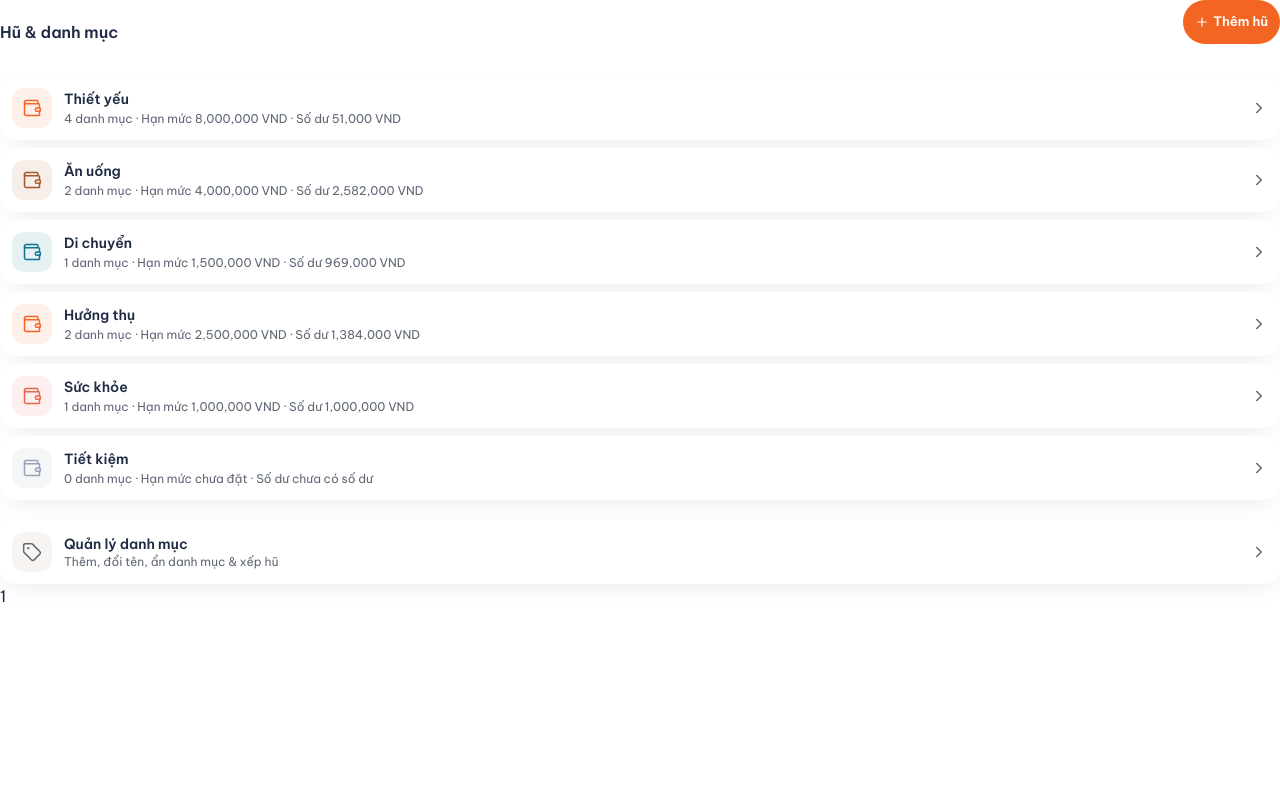
it: HuEditorSheet — delete with rebalance legs (U8) › warns about the jar's 'điều chỉnh hũ' movements and drops them after delete
Click the text "Hưởng thụ".
click(100, 315)  # box x1=64 y1=305 x2=135 y2=325
(page scrolled)
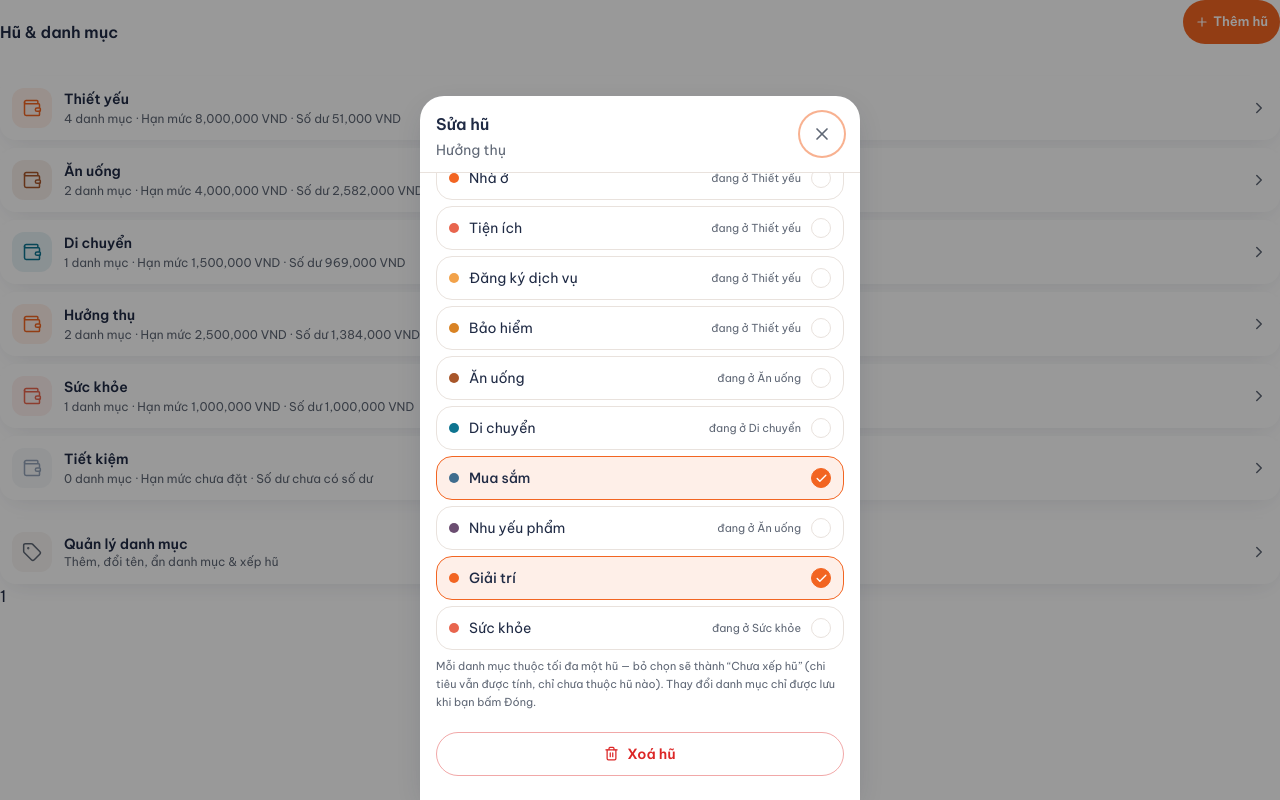
Expected: the text with test id "legs" reads "1", x1=0 y1=586 x2=6 y2=606
Click the button "Xoá hũ".
click(640, 754)  # box x1=436 y1=732 x2=844 y2=776
(page scrolled)
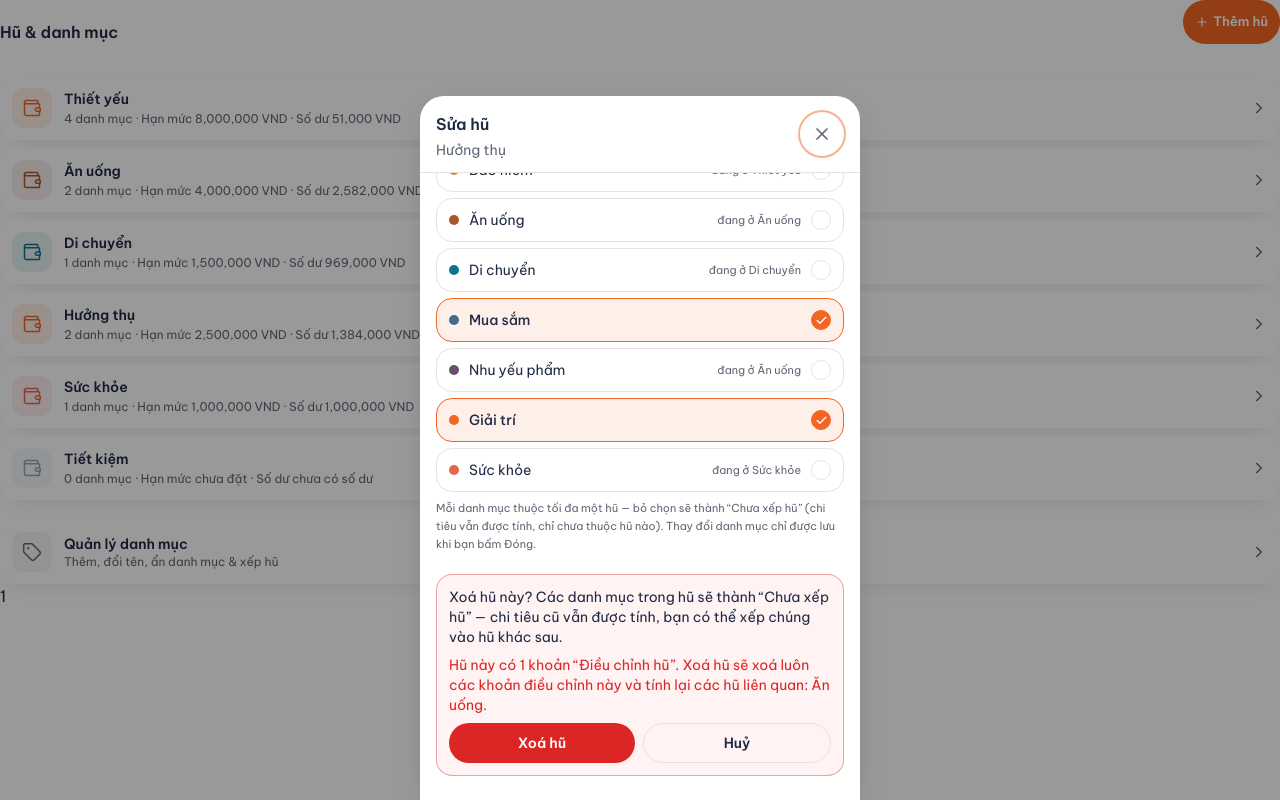
Click the button "Xoá hũ".
click(542, 743)  # box x1=449 y1=723 x2=635 y2=763
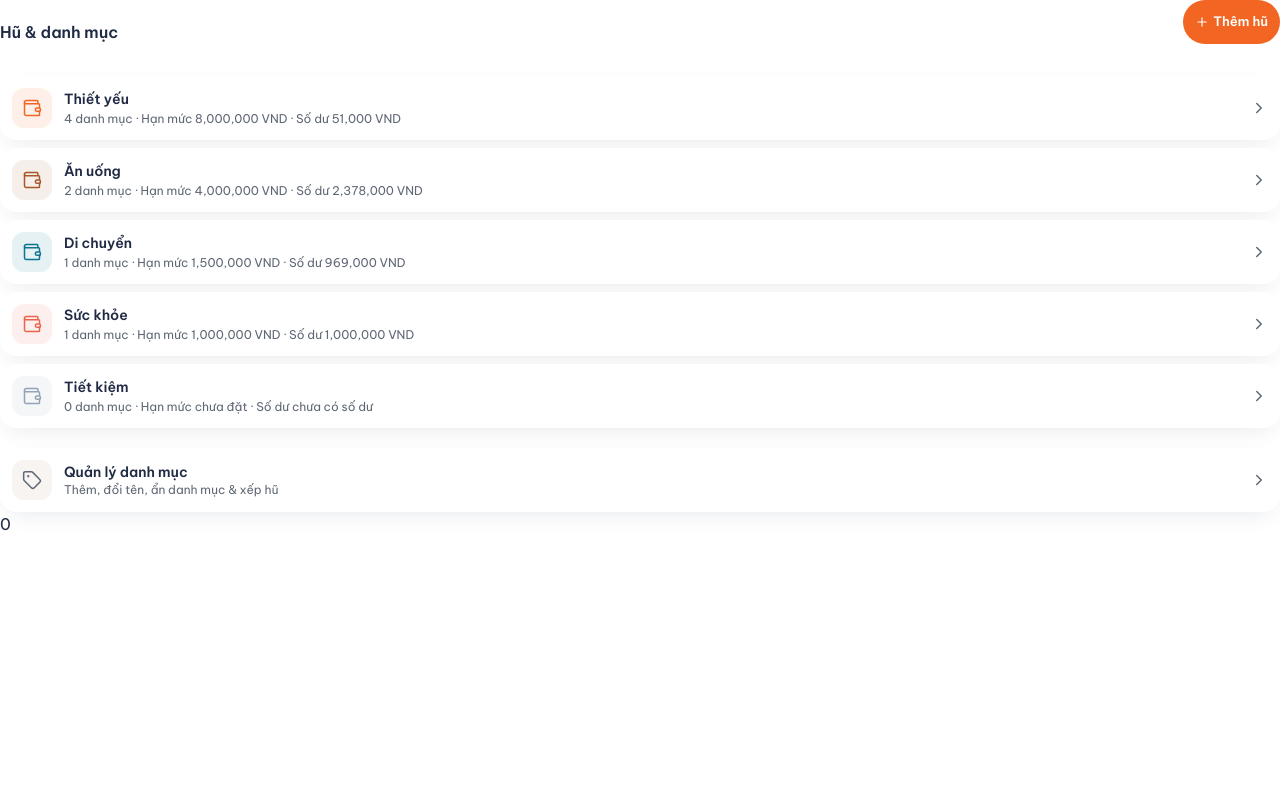
Expected: the button "Hưởng thụ" is gone
Expected: the text with test id "legs" reads "0", x1=0 y1=514 x2=11 y2=534
